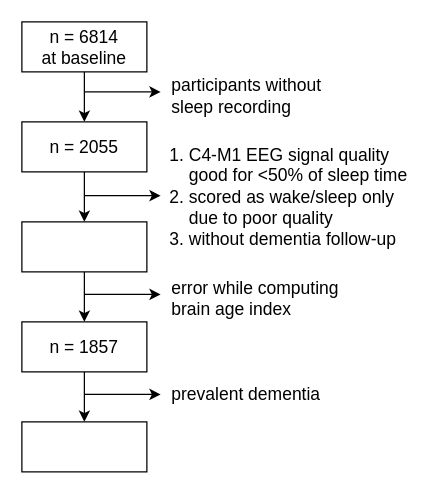
Some shapes in this 430 by 494 pixel diagram are drawn without their labels. The shapes that lost their labels are listed below. From the top down, each one's centre as x and y in pixels, then its label:
At point 84,246: "n = 1904".
At point 84,446: "n = 1837".
